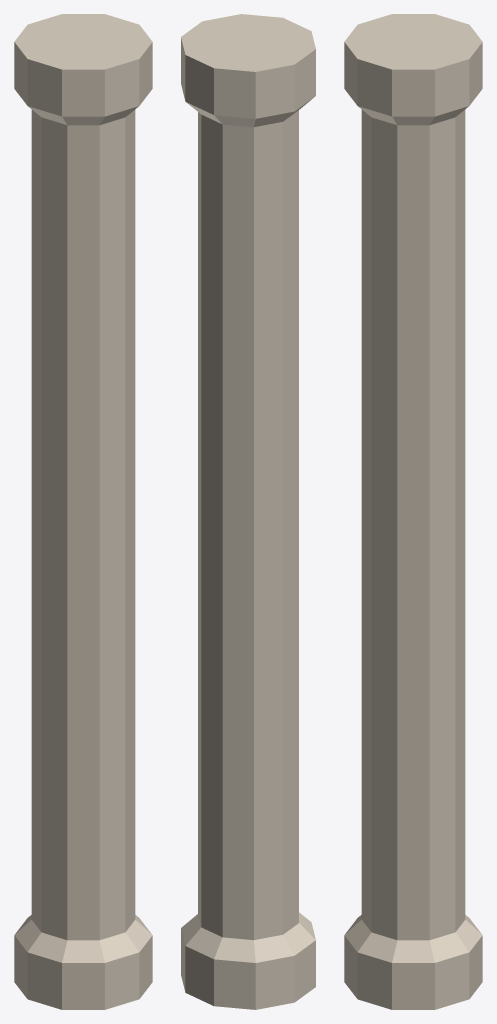
File: column_round.glb
3 renders of one model, left to right at view 1: azimuth 90°, elevation 25°; view 2: azimuth 150°, elevation 25°; view 3: azimuth 270°, elevation 25°, orthographic.
Parts seen in each view (by area): view 1: column_round; view 2: column_round; view 3: column_round.
Boxes of the visible parts, x1,y1,x2,y2 form: column_round: (14,14,152,1009); column_round: (181,14,315,1009); column_round: (344,14,482,1009).
Bounding box in the file's own units: 0.3804 × 3 × 0.4.
